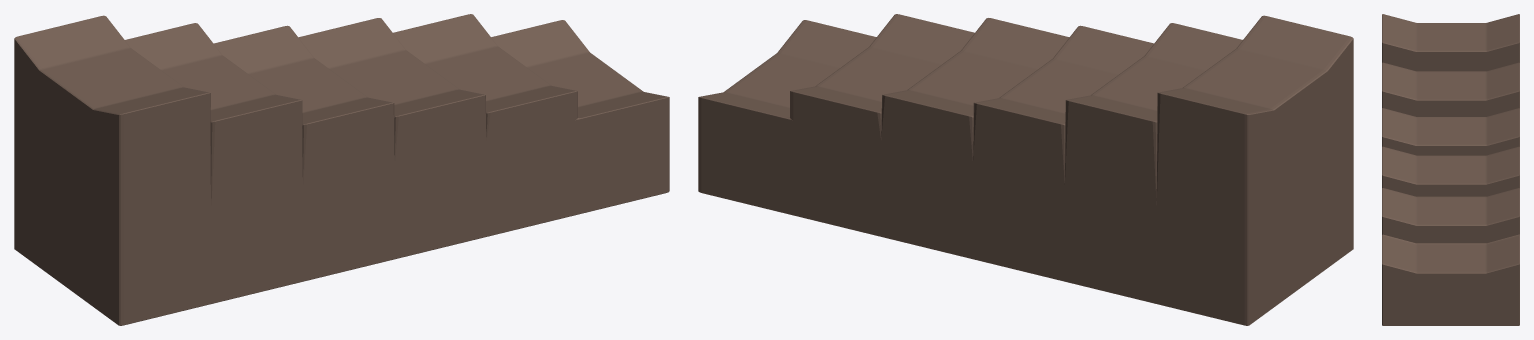
The model's file is TinyCeiling.fbx.
3 renders of one model, left to right at view 1: azimuth 30°, elevation 25°; view 2: azimuth 150°, elevation 25°; view 3: azimuth 270°, elevation 25°, orthographic. The views are drawn at different scales.
Visible parts, largest first — view 1: TinyCeiliing; view 2: TinyCeiliing; view 3: TinyCeiliing.
Part boxes in pixels (x1,y1,x2,y2): TinyCeiliing: (14, 14, 669, 325); TinyCeiliing: (698, 14, 1353, 325); TinyCeiliing: (1382, 14, 1519, 325).
Bounding box in the file's own units: 600 × 221 × 200.
